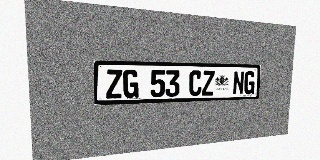3: (165, 70, 180, 97)
5: (151, 70, 165, 97)
C: (188, 70, 202, 96)
G: (123, 69, 139, 98), (244, 71, 255, 94)
N: (232, 71, 244, 95)
Z: (106, 69, 122, 99), (202, 70, 215, 96)
